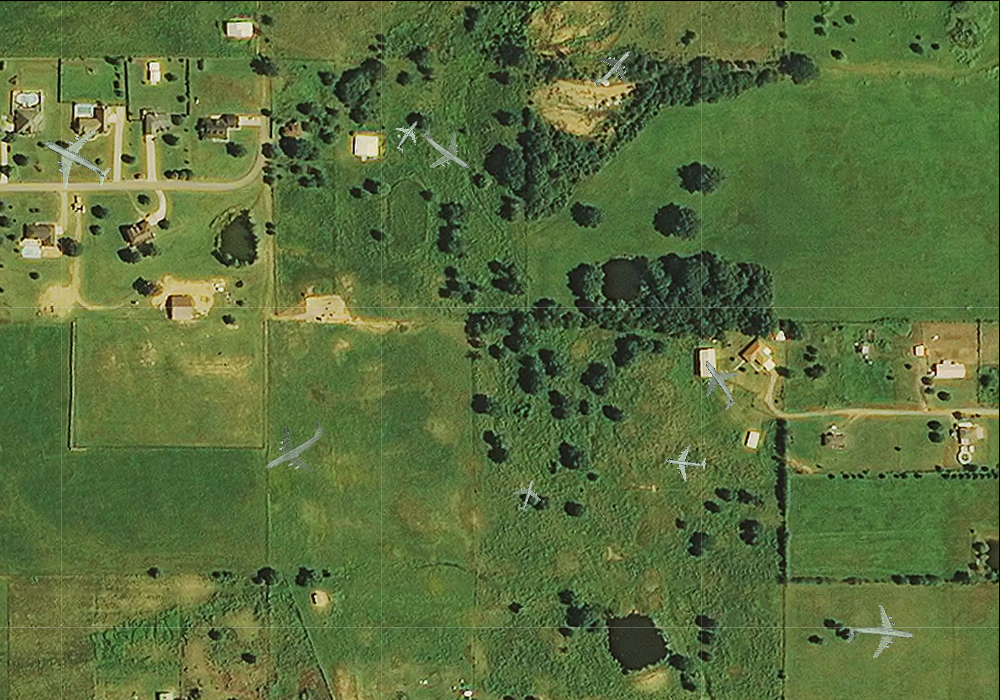plane: (26, 111, 123, 207), (247, 402, 341, 493), (407, 110, 484, 186), (843, 599, 918, 670), (684, 349, 753, 419), (579, 34, 644, 100), (384, 112, 430, 158), (663, 440, 708, 484), (507, 475, 546, 515)
